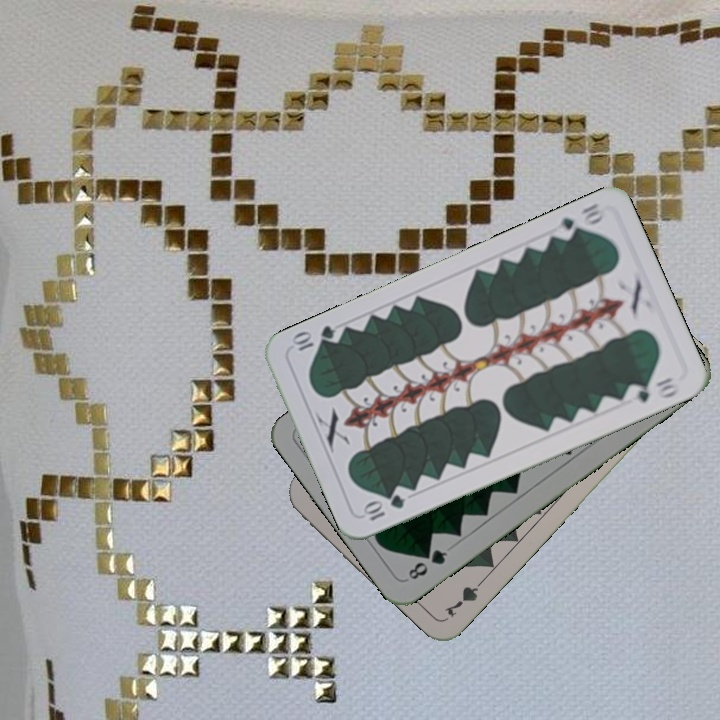G10: (550, 199, 609, 243), (359, 490, 408, 524)
G7: (440, 573, 489, 620)
G8: (402, 545, 450, 583)
